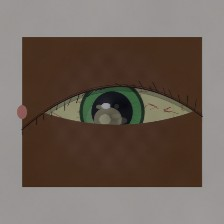corneal_ulcer: (85, 101, 130, 137)
